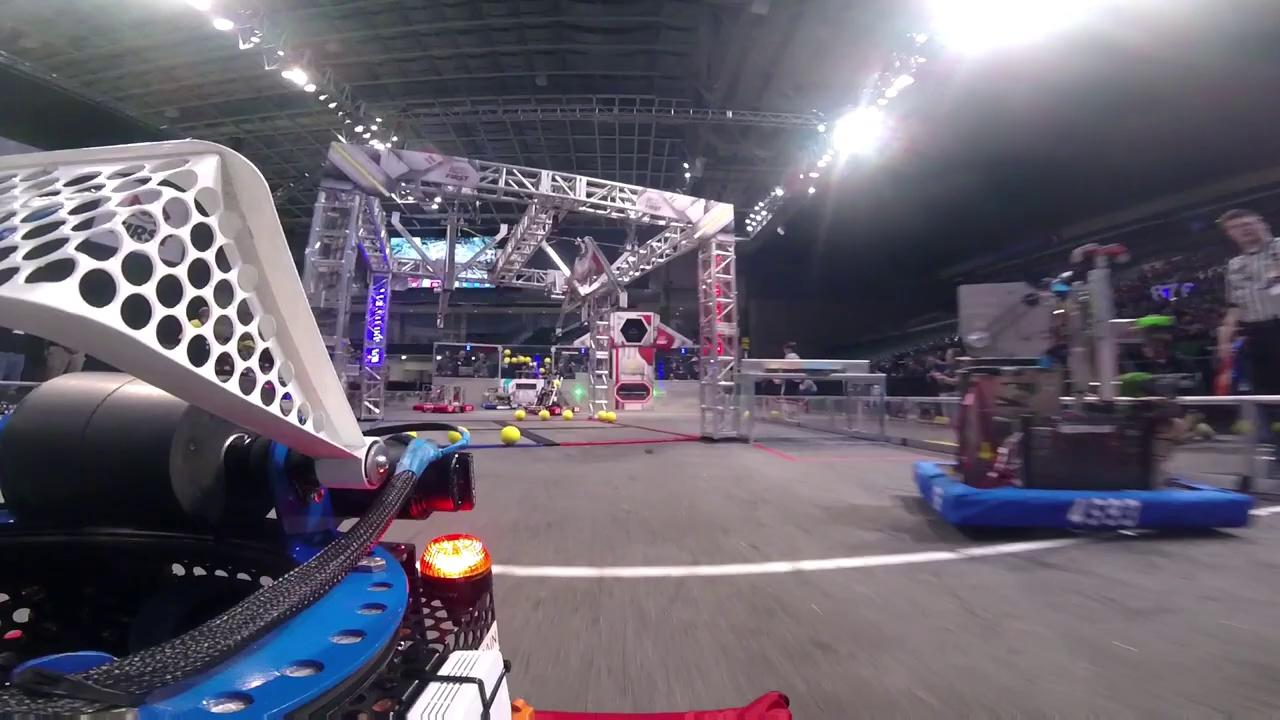robot: (908, 236, 1255, 541), (411, 377, 475, 418)
